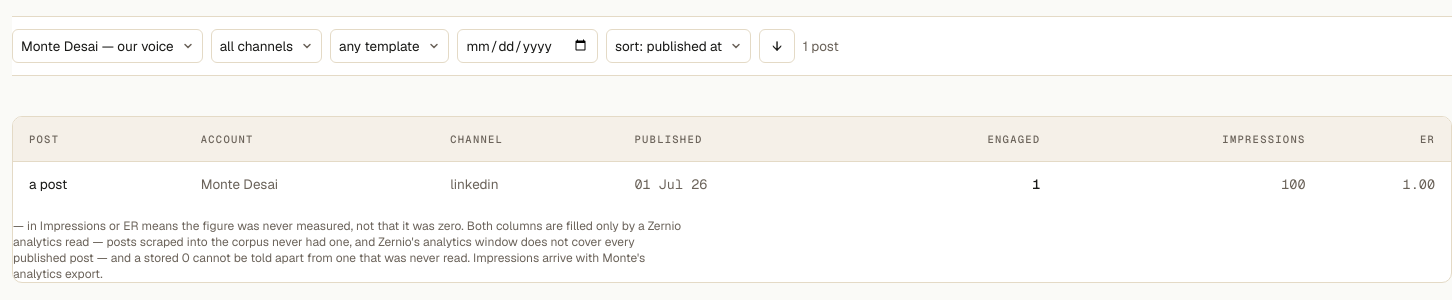
Test: a failed filter › still shows the empty state when the request genuinely succeeds with no rows
Click the button named "toggle sort direction": (777, 46) [759,29,795,63]
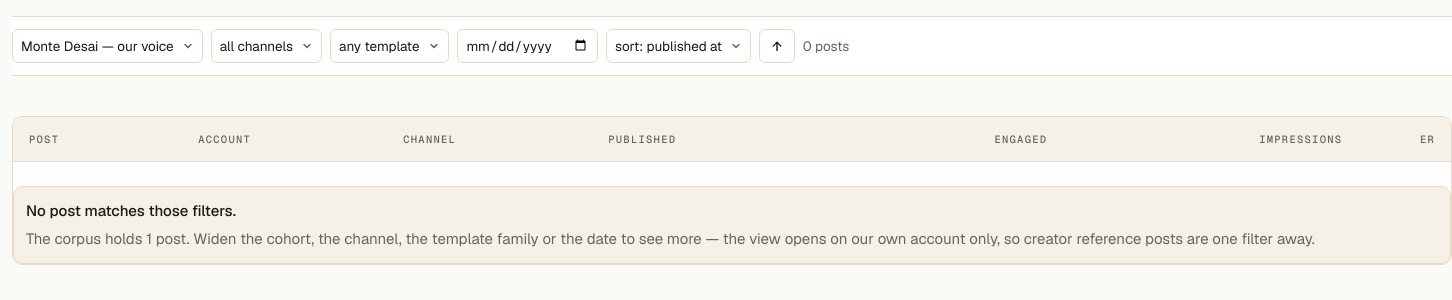
Result: the text "No post matches those filters." is shown at [26,201,236,220]
Result: the text "The corpus holds 1 post." is shown at [26,227,1438,251]
